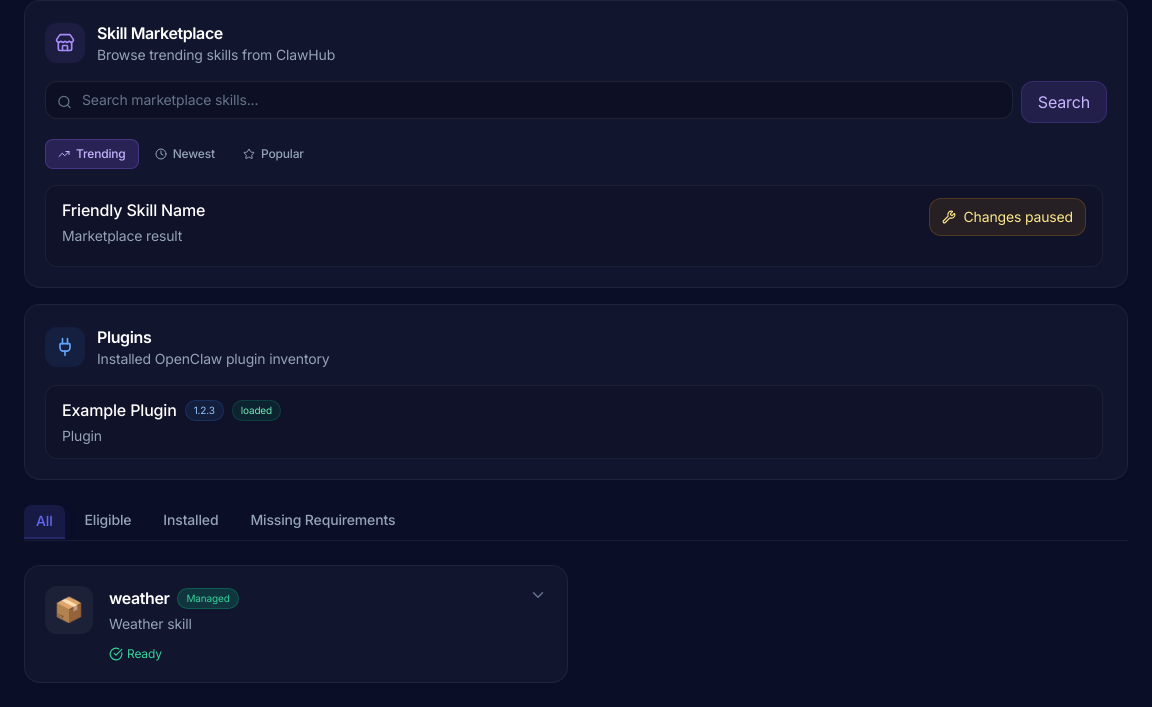
Scenario: Skills and plugins read-only maintenance boundary › preserves inventories while removing every positive extension mutation control
The width and height of the screenshot is (1152, 707).
(page scrolled)
Expected: the text "Weather skill" is shown, [109,615,192,632]
Expected: the text "Example Plugin" is shown, [62,398,177,422]
Click the button with aria-label "Show details for weather".
click(69, 610)  # box [45,586,547,662]
(page scrolled)
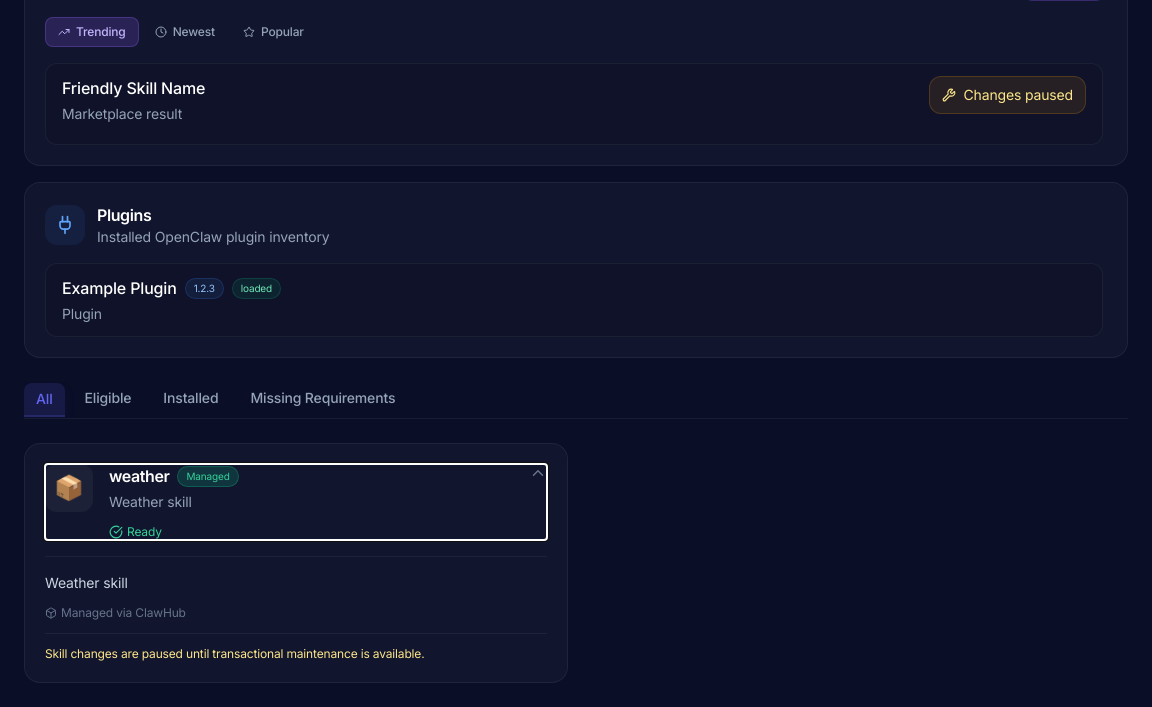
Expected: the text "Skill changes are paused until transactional maintenance is available." is shown, [45,633,547,662]
